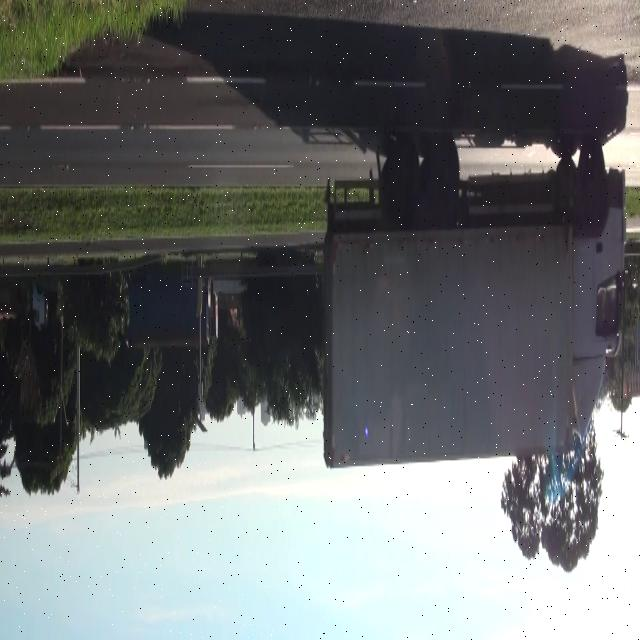-axle: (422, 134, 462, 228), (387, 141, 421, 232), (582, 138, 608, 220)
